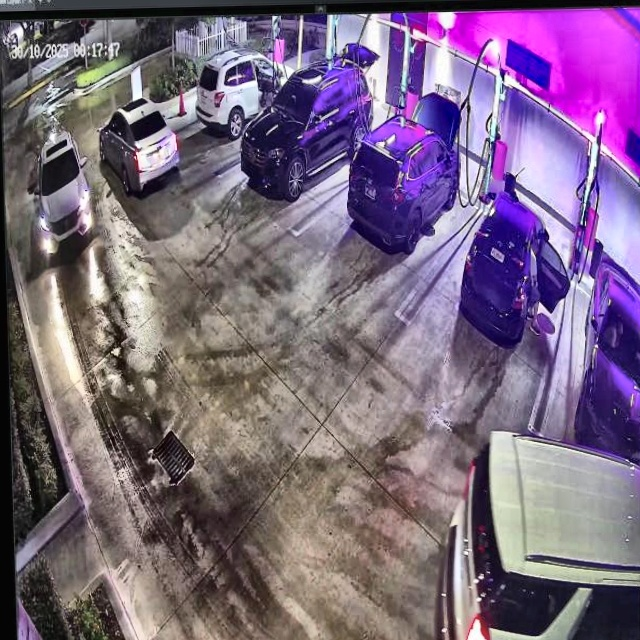Car: (239, 39, 375, 195), (349, 97, 460, 252), (460, 187, 569, 341), (103, 104, 178, 189)
